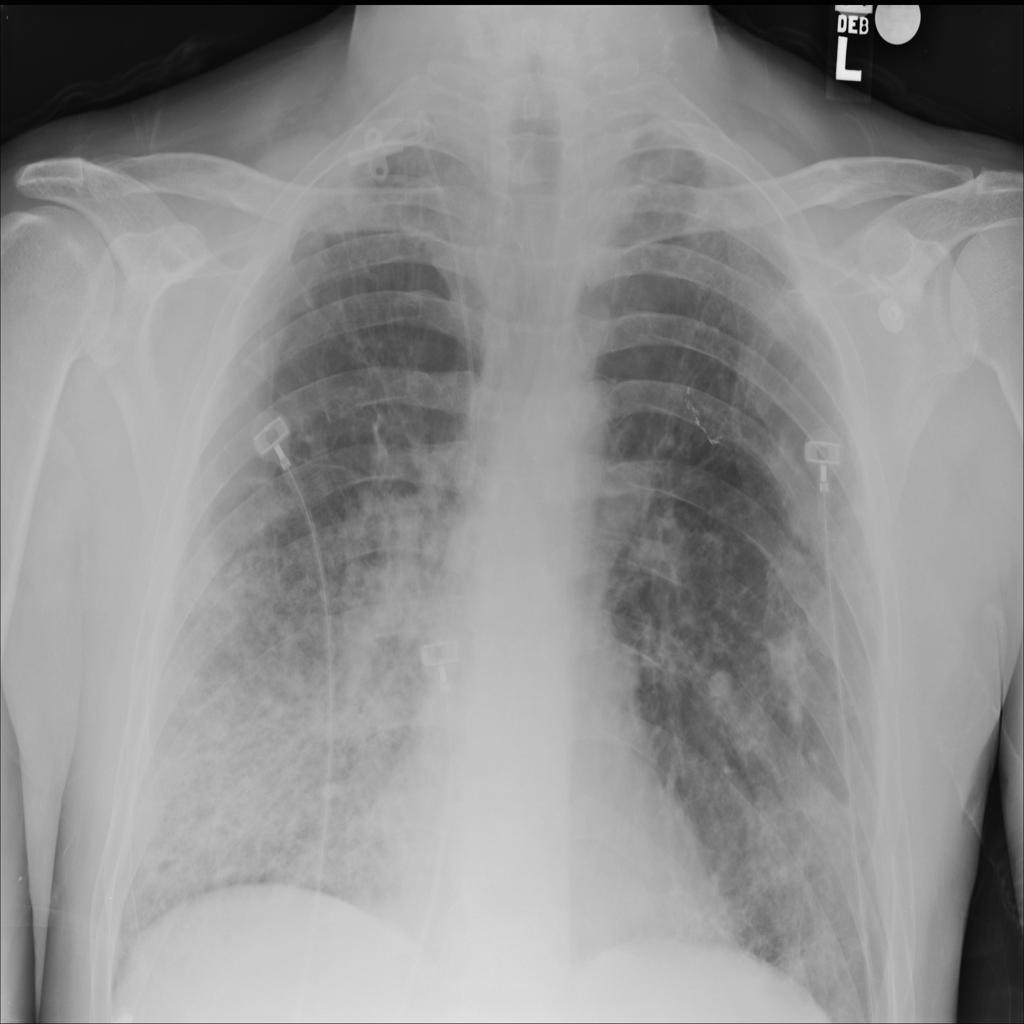nodule: (764, 623, 827, 723), (693, 647, 749, 733)
